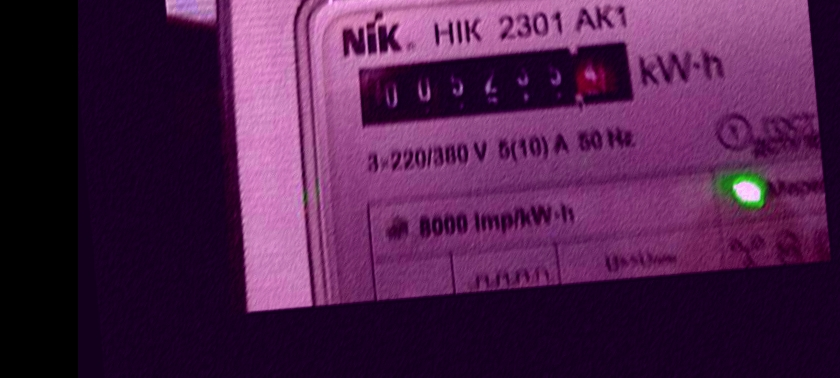0: (416, 73, 439, 107), (384, 80, 405, 112)
2: (481, 64, 505, 100)
3: (513, 59, 540, 94)
4: (582, 53, 607, 91)
5: (547, 55, 572, 93), (450, 68, 472, 102)
screen: (343, 29, 652, 143)
